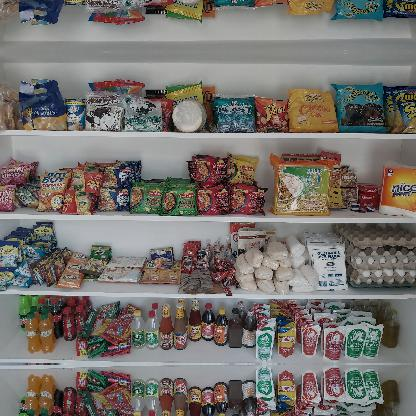Lady-s-Choice: (172, 99, 206, 132)
